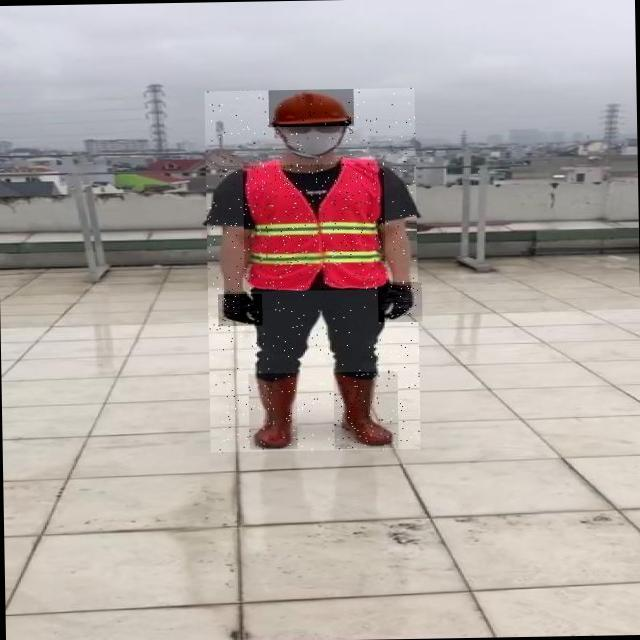Gloves: (377, 282, 422, 322), (218, 294, 263, 326)
Helmet: (268, 90, 354, 127)
Human: (204, 88, 420, 454)
Safety Boot: (334, 372, 399, 449), (248, 374, 297, 450)
Safety Vest: (243, 164, 386, 291)
